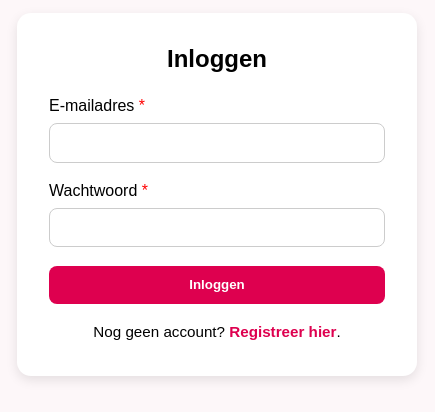
Scenario: LoginForm component › logt succesvol in en toont bevestiging
Step 1. Type "test@example.com" into the field labelled "E-mailadres" → (217, 143), box 49,123 -> 385,163
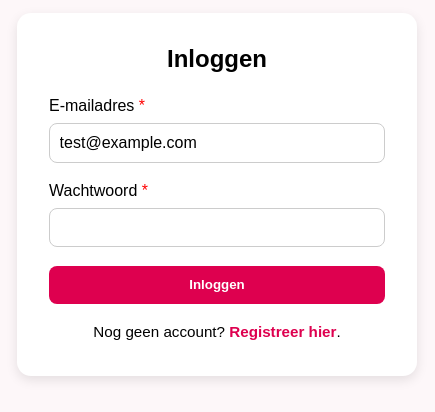
Step 2. Type "password123" into the password field labelled "Wachtwoord" → (217, 227), box 49,208 -> 385,247
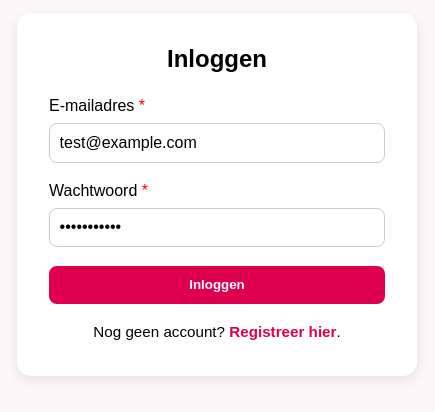
Step 3. Click the button "Inloggen" → (217, 285), box 49,266 -> 385,304
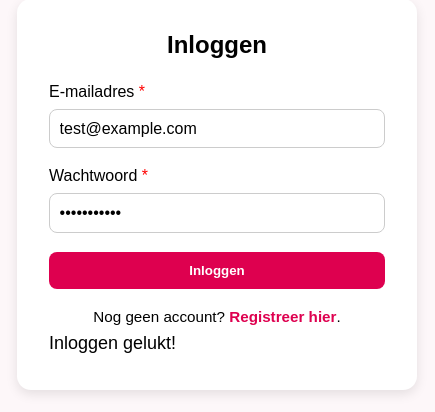
Now the text "Inloggen gelukt!" is shown, box 49,333 -> 176,353
